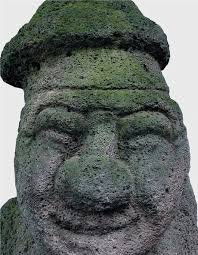Stone Statue: (1, 1, 198, 255)
